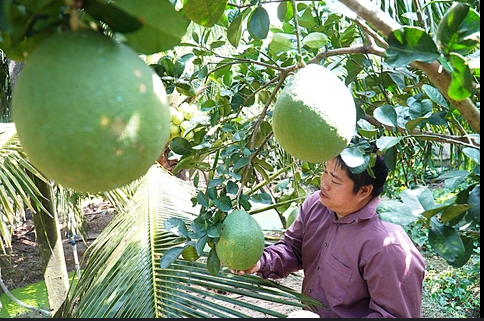buoi: (10, 25, 166, 191), (274, 57, 355, 163), (218, 190, 269, 274)
